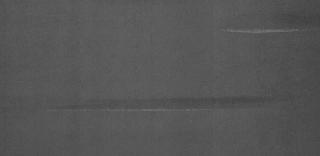scratches: (44, 100, 282, 116)
